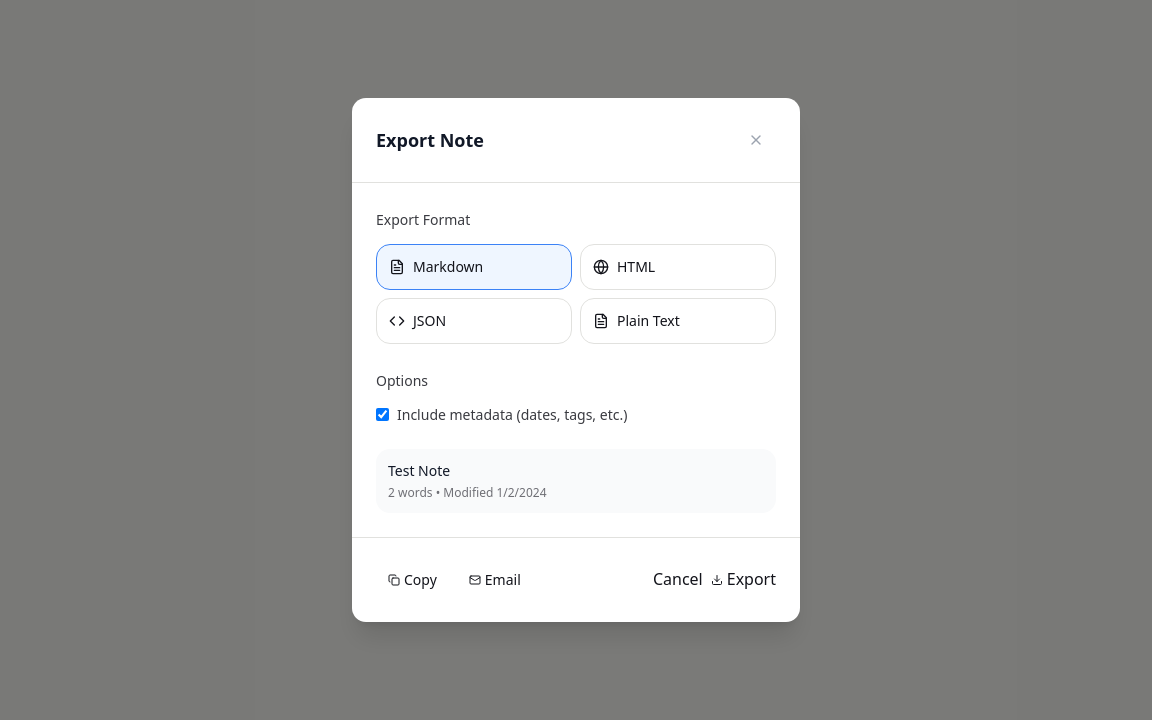
Test case: ExportModal › Single Note Export › should copy to clipboard
Click the button "Copy" at (412, 580), box [376,562,449,598]
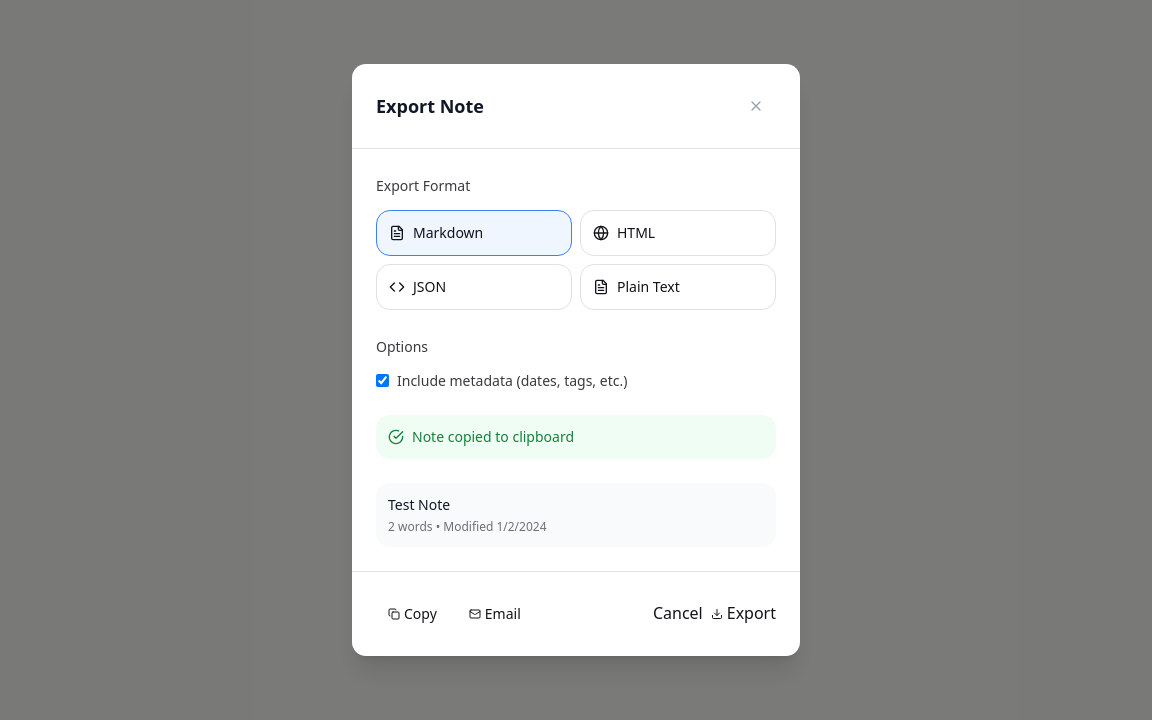
Expected: the text "Note copied to clipboard" is shown, [412,427,574,447]
